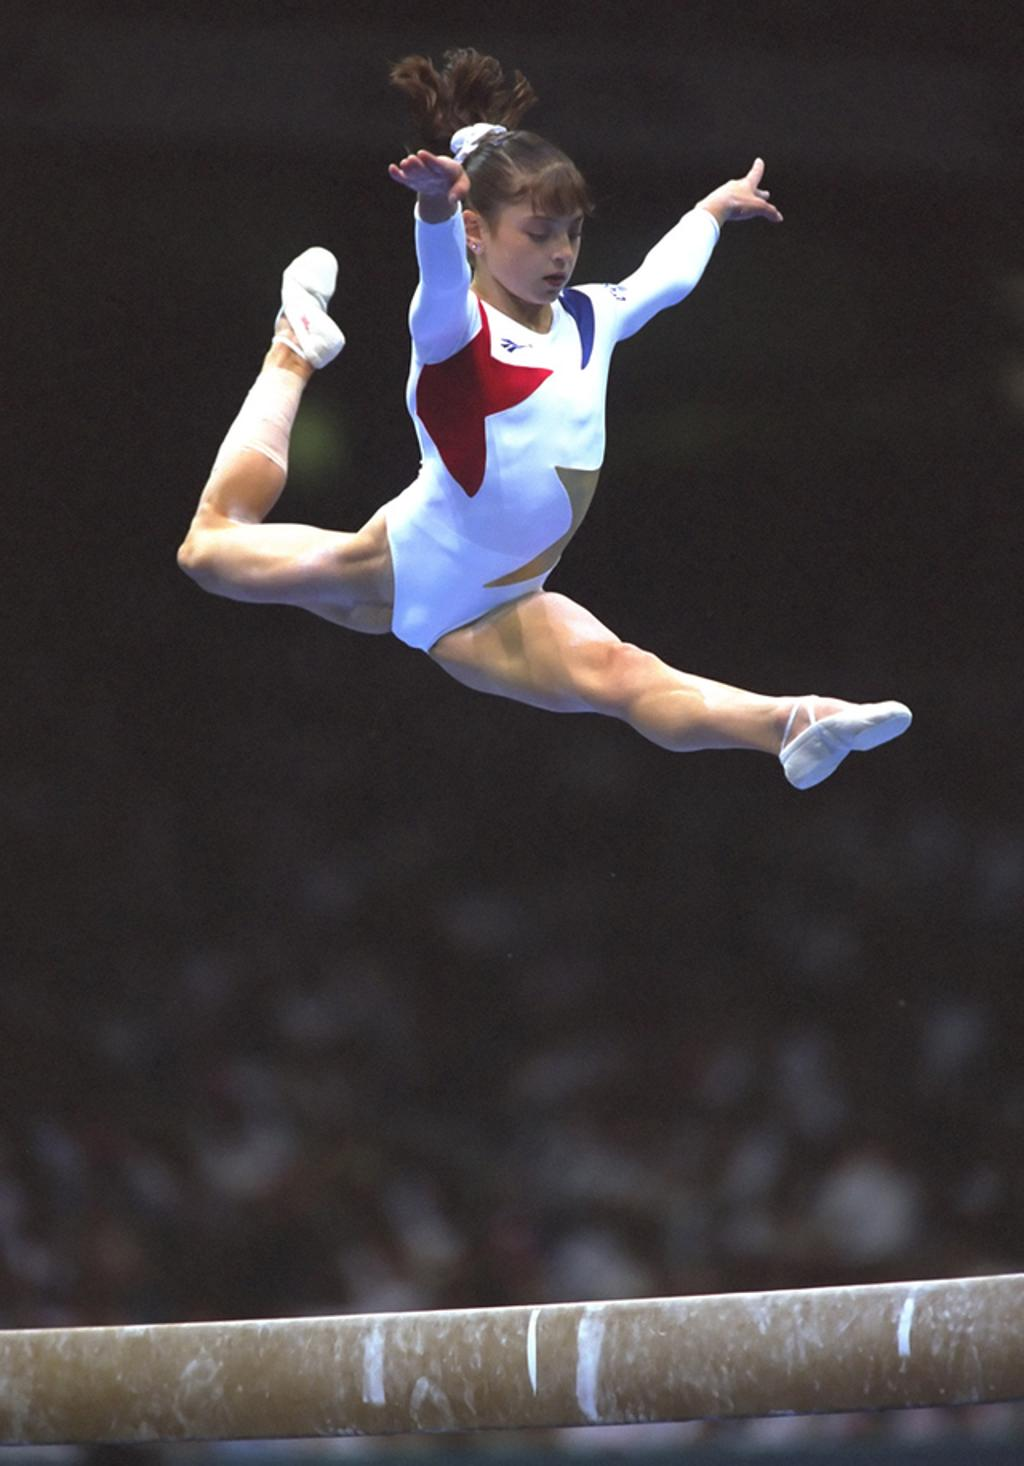face: (495, 163, 587, 306)
